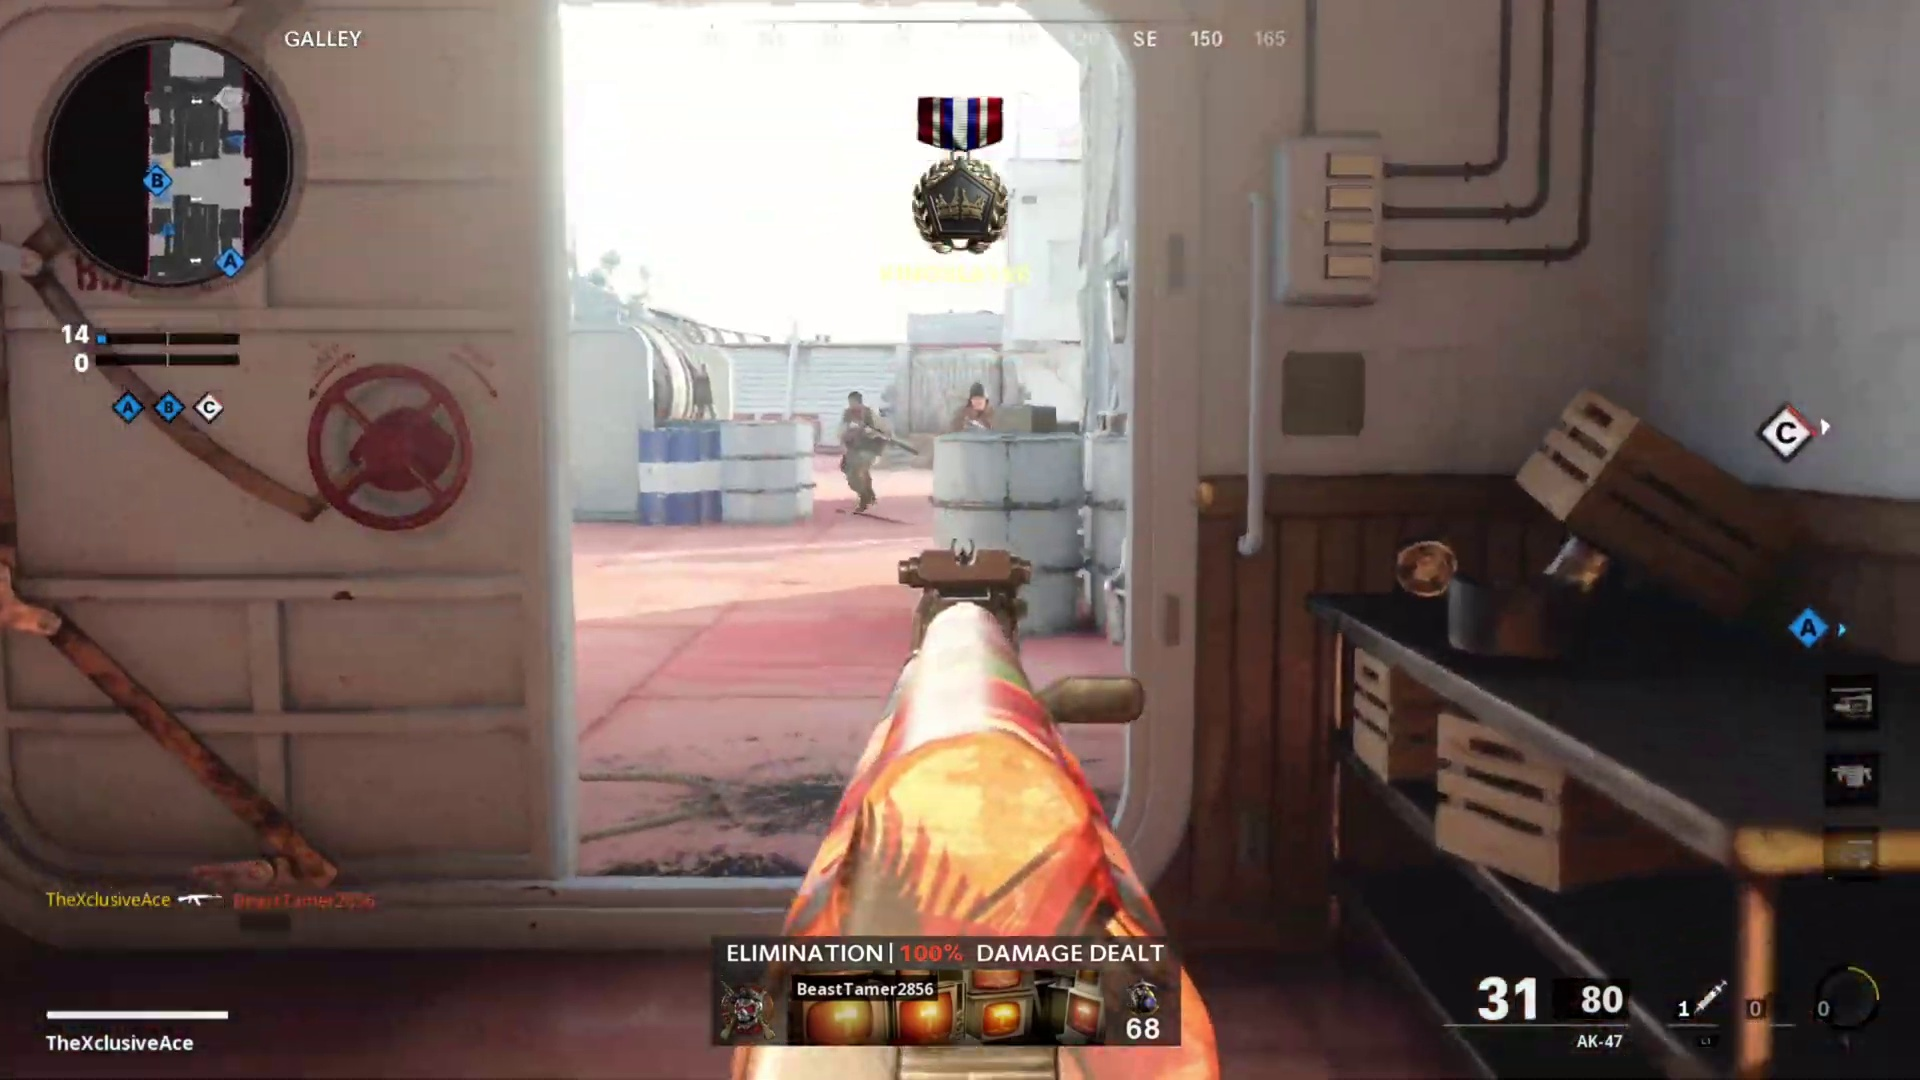head: (961, 378, 993, 420), (843, 390, 868, 418)
person: (833, 385, 893, 516), (950, 380, 994, 429)
